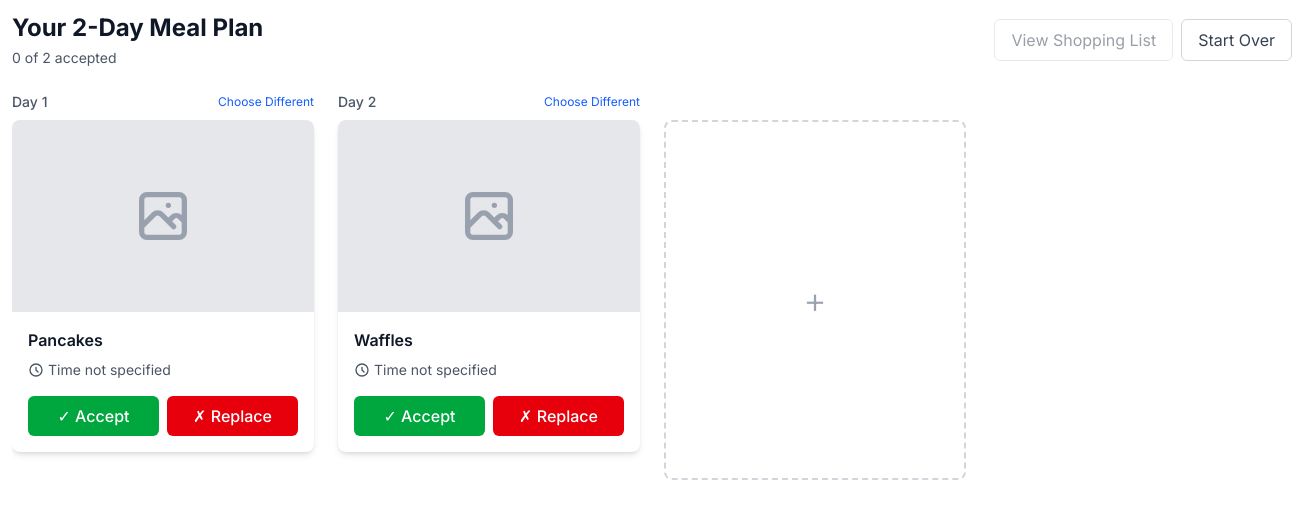
MealPlanView acceptance state › error message is dismissed when the user rejects a recipe after a failed accept
# Fail the accept on recipe 1
Click the button "✓ Accept" below "Pancakes". click: (94, 416)
box: [28,396,159,436]
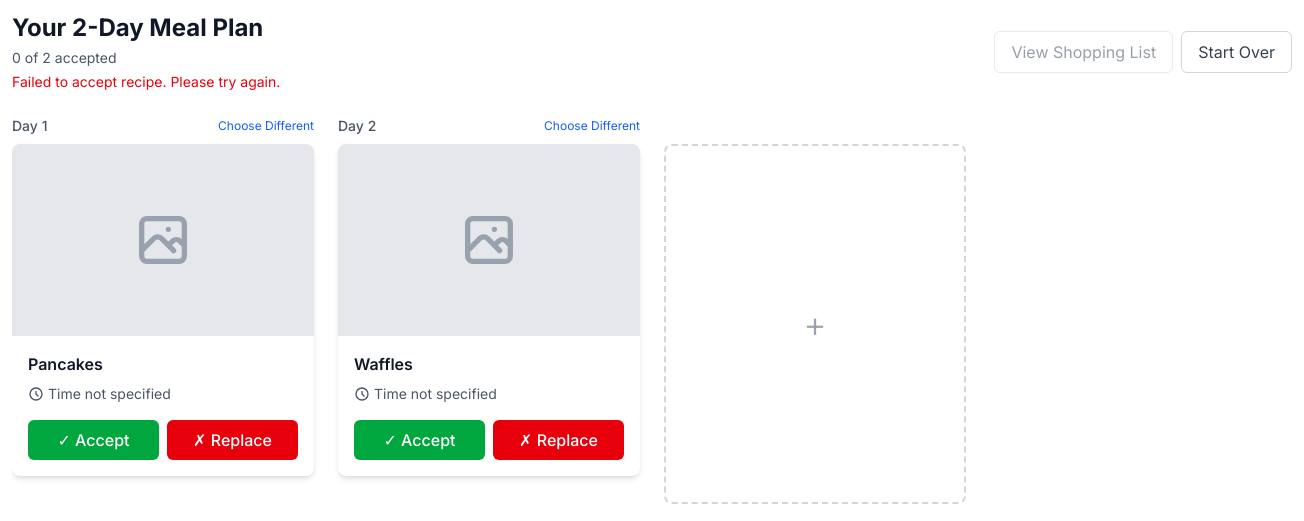
expect the message "Failed to accept recipe. Please try again." is shown: met, box [12,72,280,92]
# Reject recipe 2 — the error should clear
Click the button "✗ Replace" below "Waffles". click: (558, 440)
box: [493,420,624,460]
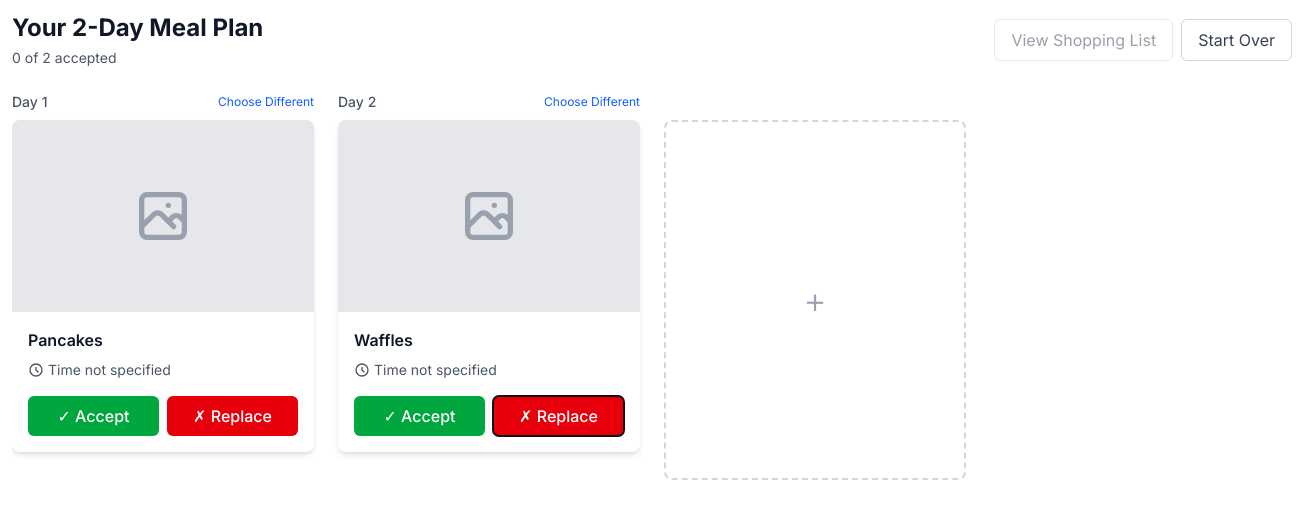
expect the message "Failed to accept recipe. Please try again." is gone: met
